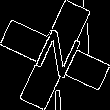N_SW: (26, 24, 84, 86)
